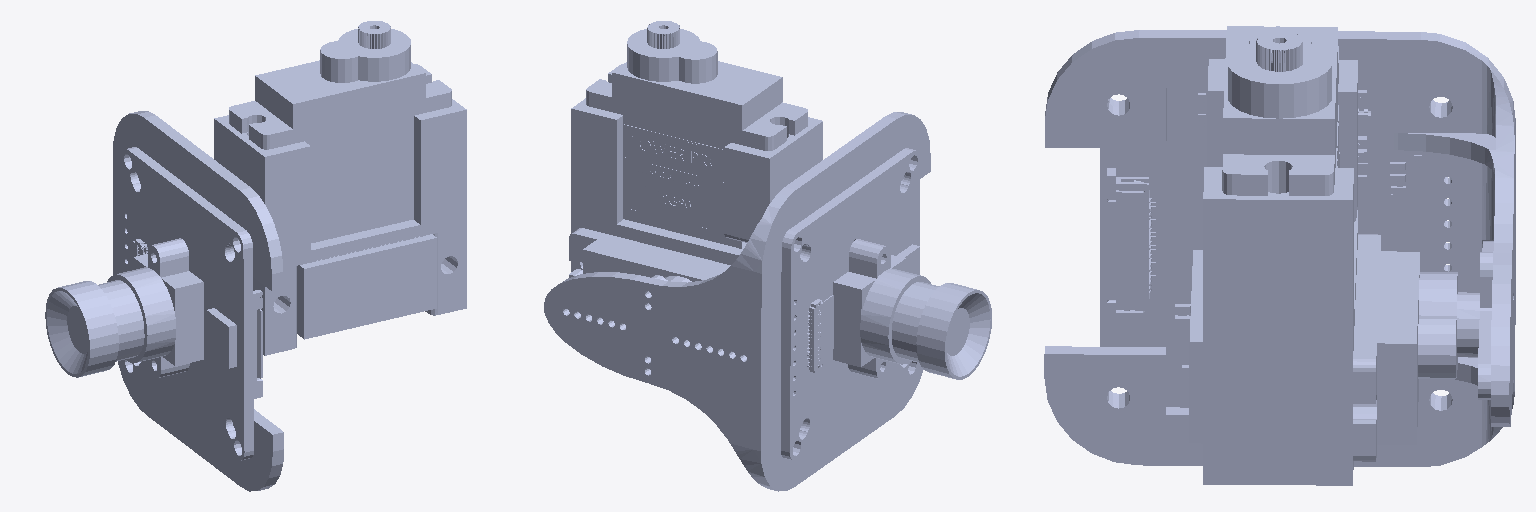
The robot description file, URDF, robot "KestrelURDF":
<?xml version="1.0" encoding="utf-8"?>
<!-- This URDF was automatically created by SolidWorks to URDF Exporter! Originally created by [author] ([email redacted]) 
     Commit Version: 1.6.0-4-g7f85cfe  Build Version: 1.6.7995.38578
     For more information, please see http://wiki.ros.org/sw_urdf_exporter -->
<robot
  name="KestrelURDF">
  <link
    name="base_link">
    <inertial>
      <origin
        xyz="0.739500868307654 0.910559872876914 1.29376036749626"
        rpy="0 0 0" />
      <mass
        value="0.735760542636533" />
      <inertia
        ixx="0.00548898530780651"
        ixy="-0.000185533639752651"
        ixz="-7.03163940720585E-06"
        iyy="0.00987067533675419"
        iyz="-1.19854626006522E-06"
        izz="0.00666910293672226" />
    </inertial>
    <visual>
      <origin
        xyz="0 0 0"
        rpy="0 0 0" />
      <geometry>
        <mesh
          filename="package://KestrelURDF/meshes/base_link.STL" />
      </geometry>
      <material
        name="">
        <color
          rgba="0.792156862745098 0.819607843137255 0.933333333333333 1" />
      </material>
    </visual>
    <collision>
      <origin
        xyz="0 0 0"
        rpy="0 0 0" />
      <geometry>
        <mesh
          filename="package://KestrelURDF/meshes/base_link.STL" />
      </geometry>
    </collision>
  </link>
  <link
    name="CameraPt1">
    <inertial>
      <origin
        xyz="0.0990404015692381 0.0580747612832986 0.0187090478702636"
        rpy="0 0 0" />
      <mass
        value="0.735760542636533" />
      <inertia
        ixx="0.0055335402575296"
        ixy="-0.000181980136171852"
        ixz="-0.000225043067059608"
        iyy="0.00987067533675419"
        iyz="-3.6157959454016E-05"
        izz="0.00662454798699917" />
    </inertial>
    <visual>
      <origin
        xyz="0 0 0"
        rpy="0 0 0" />
      <geometry>
        <mesh
          filename="package://KestrelURDF/meshes/CameraPt1.STL" />
      </geometry>
      <material
        name="">
        <color
          rgba="0.792156862745098 0.819607843137255 0.933333333333333 1" />
      </material>
    </visual>
    <collision>
      <origin
        xyz="0 0 0"
        rpy="0 0 0" />
      <geometry>
        <mesh
          filename="package://KestrelURDF/meshes/CameraPt1.STL" />
      </geometry>
    </collision>
  </link>
  <joint
    name="CameraPt1"
    type="revolute">
    <origin
      xyz="0.63871 -1.2941 0.85249"
      rpy="1.5708 0 0.18968" />
    <parent
      link="base_link" />
    <child
      link="CameraPt1" />
    <axis
      xyz="0 1 0" />
    <limit
      lower="0"
      upper="3.1415"
      effort="1.471"
      velocity="5.236" />
    <safety_controller
      soft_upper_limit="3.1415"
      soft_lower_limit="0"
      k_velocity="0" />
  </joint>
  <link
    name="CameraPt2">
    <inertial>
      <origin
        xyz="0.095173 0.076334 0.017899"
        rpy="0 0 0" />
      <mass
        value="0.73576" />
      <inertia
        ixx="0.0058726"
        ixy="-0.0011831"
        ixz="-0.00015492"
        iyy="0.0095171"
        iyz="-0.00024261"
        izz="0.006639" />
    </inertial>
    <visual>
      <origin
        xyz="0 0 0"
        rpy="0 0 0" />
      <geometry>
        <mesh
          filename="package://KestrelURDF/meshes/CameraPt2.STL" />
      </geometry>
      <material
        name="">
        <color
          rgba="0.79216 0.81961 0.93333 1" />
      </material>
    </visual>
    <collision>
      <origin
        xyz="0 0 0"
        rpy="0 0 0" />
      <geometry>
        <mesh
          filename="package://KestrelURDF/meshes/CameraPt2.STL" />
      </geometry>
    </collision>
  </link>
  <joint
    name="CameraPt2"
    type="revolute">
    <origin
      xyz="-0.011599 0.0079 -0.0024281"
      rpy="0.050421 0.0061613 -0.24314" />
    <parent
      link="CameraPt1" />
    <child
      link="CameraPt2" />
    <axis
      xyz="0.2049 0 -0.97878" />
    <limit
      lower="-1.5708"
      upper="0"
      effort="1.571"
      velocity="5.236" />
    <safety_controller
      soft_upper_limit="0"
      soft_lower_limit="-1.5708"
      k_velocity="0" />
  </joint>
</robot>

--- What the picture shows (computed from the rendered views, not written in the file) ---
Views: 3 orthographic renders of the robot side by side, from view 1: azimuth 30°, elevation 25°; view 2: azimuth 150°, elevation 25°; view 3: azimuth 270°, elevation 25°.
Model KestrelURDF with 3 links and 2 joints (2 revolute), rooted at base_link, posed all joints at 0.
Visible links, largest first — view 1: CameraPt1, CameraPt2; view 2: CameraPt2, CameraPt1; view 3: CameraPt2, CameraPt1.
Link boxes in pixels (box(x1,y1,x2,y2)): CameraPt1: box(214, 21, 466, 355); CameraPt2: box(45, 111, 283, 491); CameraPt2: box(544, 112, 991, 491); CameraPt1: box(569, 21, 822, 282); CameraPt2: box(1044, 30, 1515, 466); CameraPt1: box(1189, 26, 1457, 485).
Bounding box of the posed robot: 0.0653 × 0.0497 × 0.0635 m (x, y, z).
Meshes: 3 distinct files referenced, 2 mesh visuals loaded (2 binary STL); not drawn: 1 (reference not matched to a file when rendering).